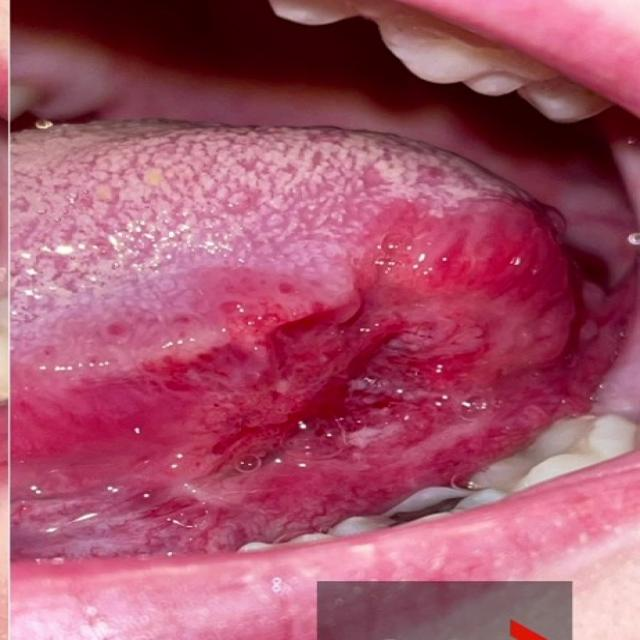Cancer: (192, 175, 598, 570)
